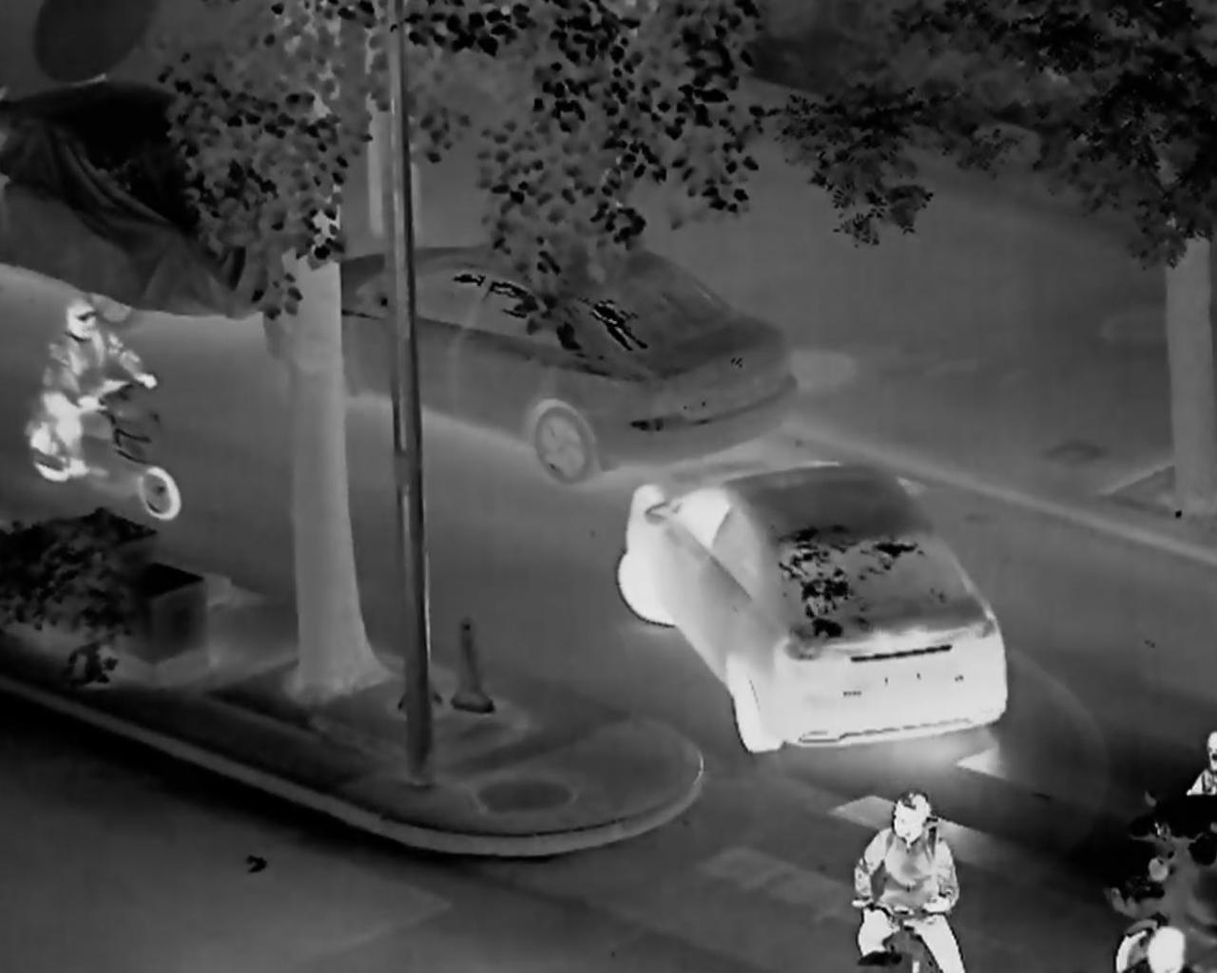person: (39, 296, 157, 471), (857, 792, 963, 973), (1174, 720, 1217, 794)
